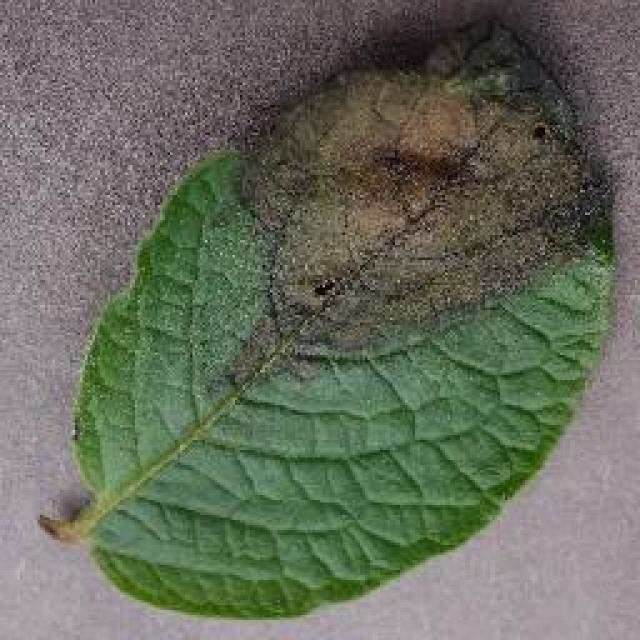late_blight: (39, 15, 616, 621)
